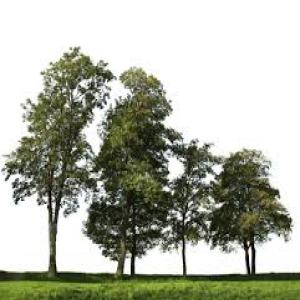Tree: (2, 45, 109, 274), (84, 64, 170, 276), (210, 144, 292, 277), (167, 135, 214, 280)
